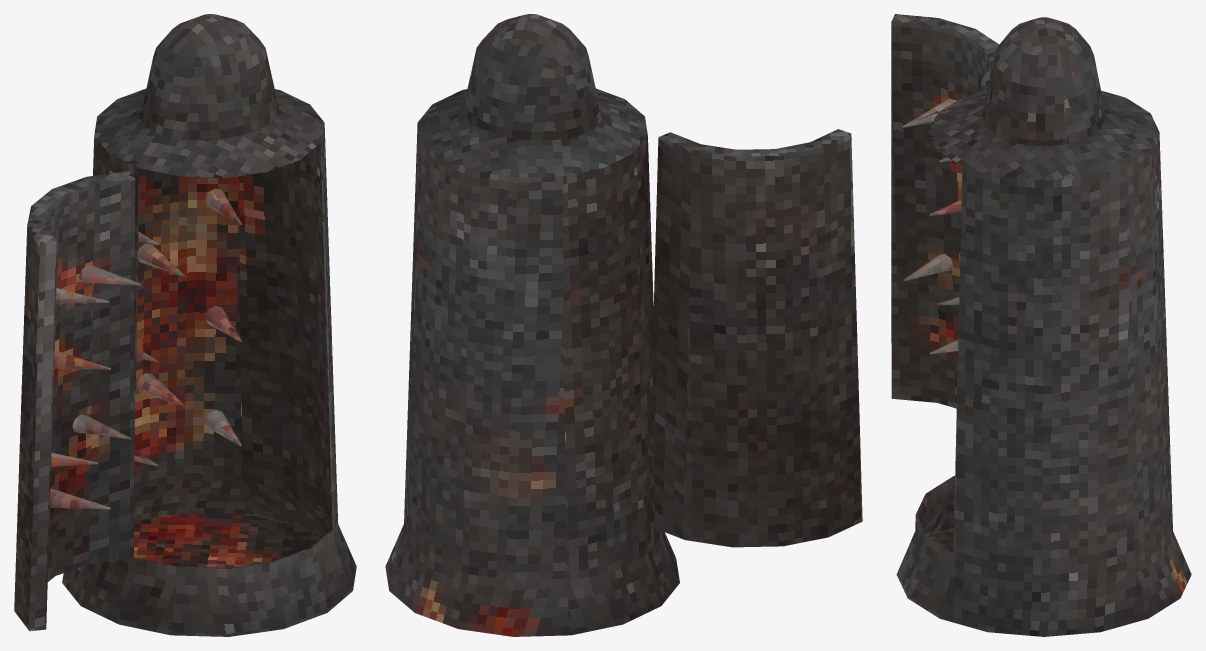
File: Iron_Maiden.gltf
3 renders of one model, left to right at view 1: azimuth 30°, elevation 25°; view 2: azimuth 150°, elevation 25°; view 3: azimuth 270°, elevation 25°, orthographic.
Parts seen in each view (by area): view 1: Iron_Maiden, Iron_Maiden_Door; view 2: Iron_Maiden, Iron_Maiden_Door; view 3: Iron_Maiden, Iron_Maiden_Door.
Part boxes in pixels (x1,y1,x2,y2): Iron_Maiden: (62,14,356,636); Iron_Maiden_Door: (14,171,142,631); Iron_Maiden: (385,14,679,636); Iron_Maiden_Door: (652,129,862,547); Iron_Maiden: (896,17,1191,636); Iron_Maiden_Door: (891,14,998,408).
Size of the model in its own units: 4.5 by 6.24 by 3.08.
Materials: 1 (1 with a texture image).
